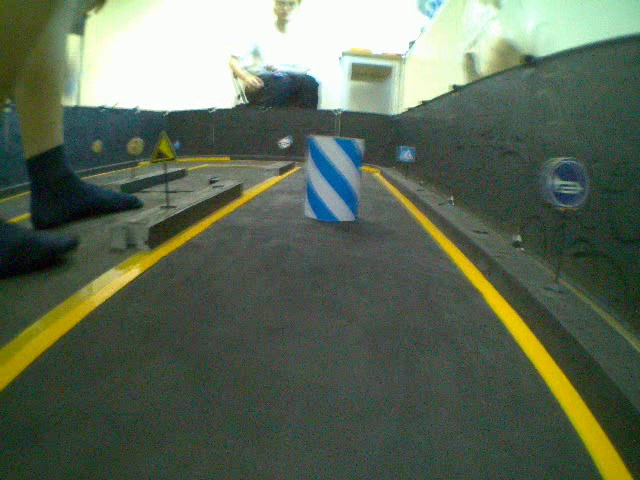bucket: (303, 136, 371, 224)
